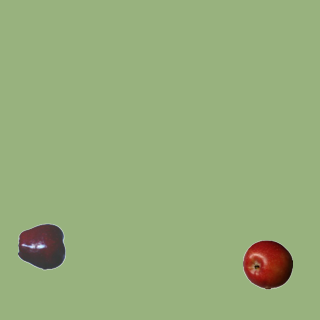Apple Braeburn: (242, 239, 292, 289)
Apple Red Delicious: (17, 221, 67, 271)
